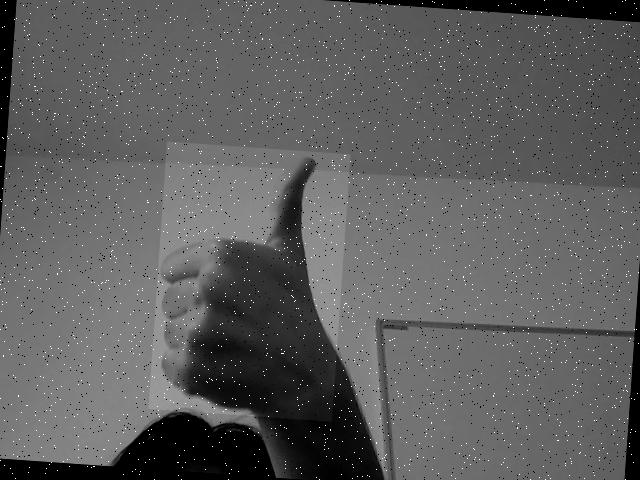good: (157, 151, 336, 416)
